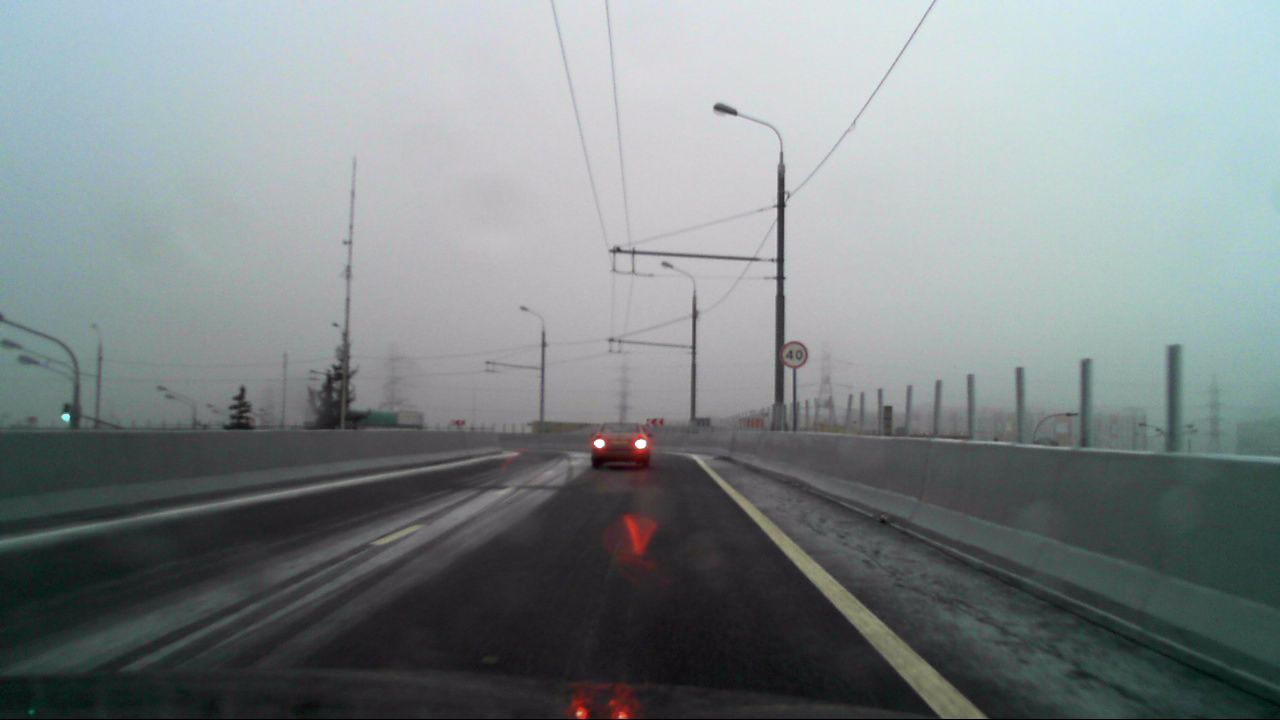speed_warning_40: (780, 341, 807, 368)
